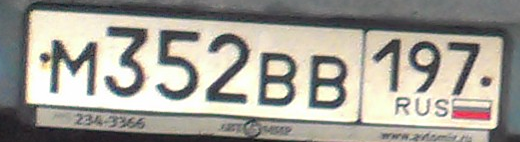character: (154, 26, 202, 102), (206, 29, 250, 108), (103, 20, 147, 98), (47, 38, 98, 99), (306, 50, 351, 112), (256, 48, 298, 109), (447, 38, 480, 98), (408, 36, 442, 93), (372, 36, 403, 93)
